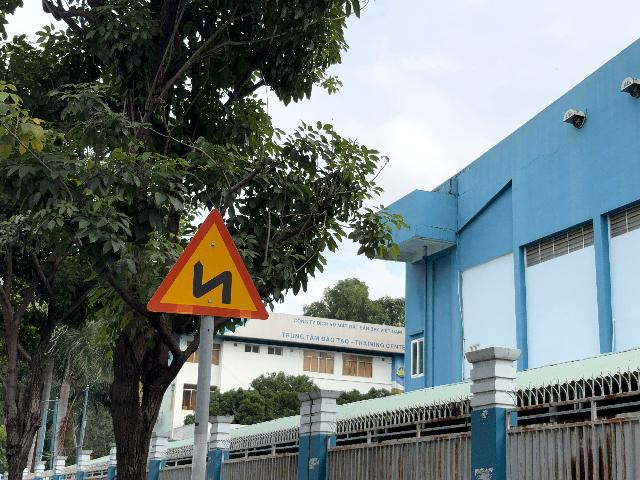nhieu-cho-ngoat-nguy-hiem-lien-tiep: (146, 208, 269, 320)
